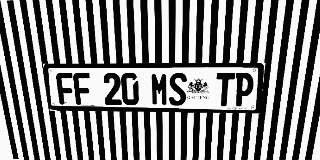0: (121, 73, 139, 105)
2: (103, 73, 122, 105)
F: (55, 73, 76, 104), (73, 73, 92, 105)
M: (151, 73, 168, 106)
P: (233, 73, 255, 106)
S: (169, 73, 187, 106)
T: (215, 73, 235, 106)
